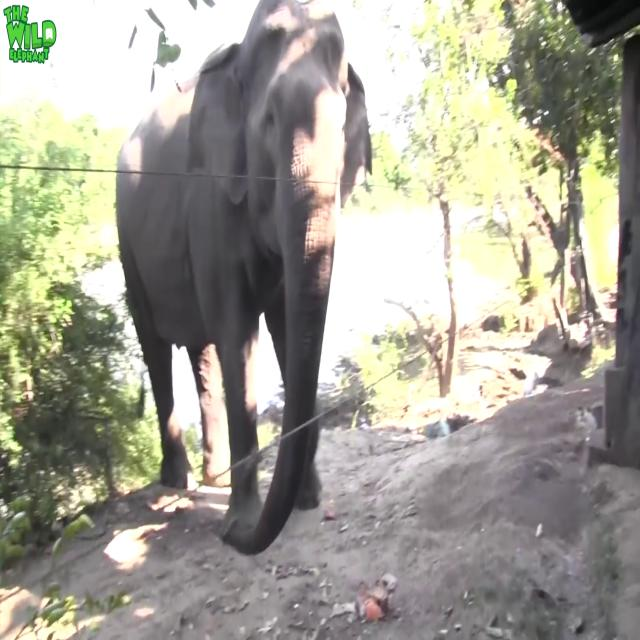Elephant: (114, 0, 372, 555)
